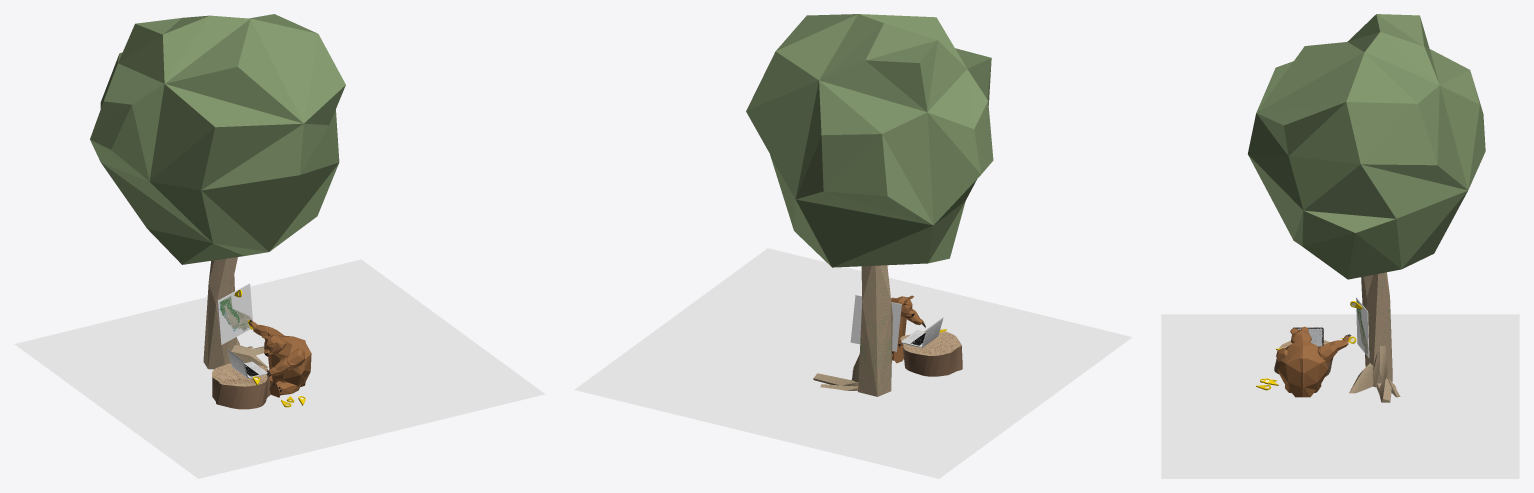
Rendered from maptimebear_11.dae.
The picture shows the model from 3 angles, left to right: view 1: azimuth 30°, elevation 25°; view 2: azimuth 150°, elevation 25°; view 3: azimuth 270°, elevation 25°; orthographic projection. The views are drawn at different scales.
Visible parts, largest first — view 1: group_28, crown_1, trunk, AED_tree_stump_on_casters_1 (×2), group_0; view 2: group_28, crown_1, trunk, AED_tree_stump_on_casters_1 (×2), group_0; view 3: group_28, crown_1, trunk, group_21 (×4), trunk_1 (×2), group_0.
Boxes of the visible parts, bbox=[...] form: group_28: bbox=[14, 259, 545, 478]; crown_1: bbox=[90, 14, 345, 264]; trunk: bbox=[203, 257, 237, 369]; AED_tree_stump_on_casters_1 (×2): bbox=[212, 363, 270, 409]; group_0: bbox=[218, 283, 252, 344]; group_28: bbox=[574, 248, 1132, 478]; crown_1: bbox=[746, 14, 993, 267]; trunk: bbox=[858, 265, 892, 396]; AED_tree_stump_on_casters_1 (×2): bbox=[900, 330, 962, 376]; group_0: bbox=[850, 295, 901, 351]; group_28: bbox=[1161, 314, 1519, 478]; crown_1: bbox=[1248, 14, 1485, 279]; trunk: bbox=[1361, 272, 1392, 381]; group_21 (×4): bbox=[1277, 340, 1327, 397]; trunk_1 (×2): bbox=[1349, 346, 1387, 393]; group_0: bbox=[1356, 298, 1368, 357].
Size of the model in its own units: 64.68 by 59.46 by 65.19.
